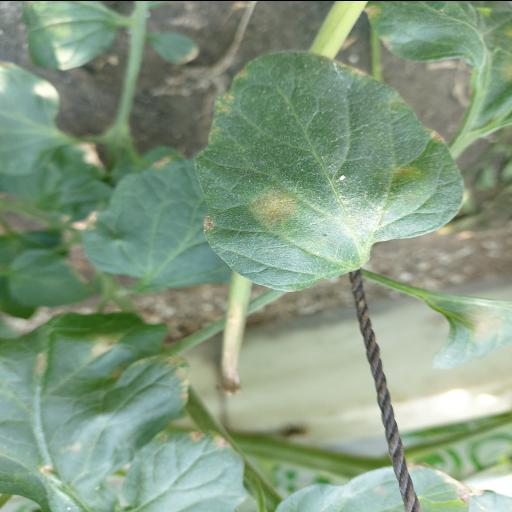disease_tomato: (192, 50, 464, 292), (0, 308, 250, 512)
